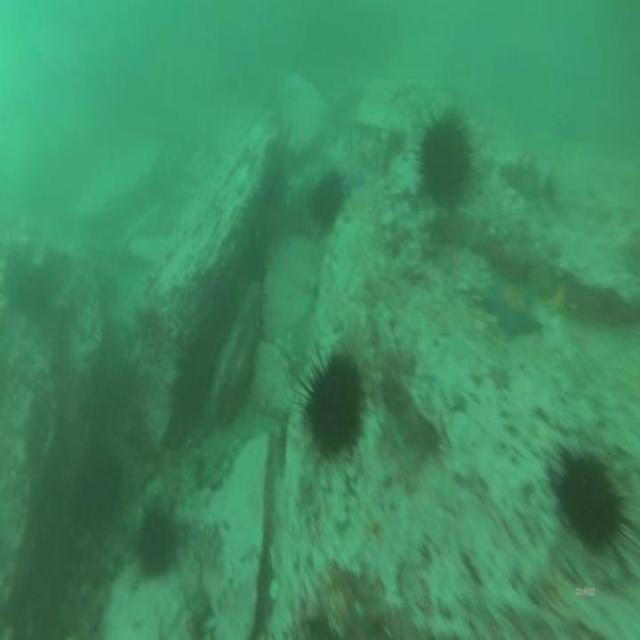echinus: (547, 438, 637, 580), (290, 340, 370, 468), (408, 101, 481, 217), (130, 502, 182, 586), (304, 162, 350, 238)
starfish: (476, 262, 546, 344)
